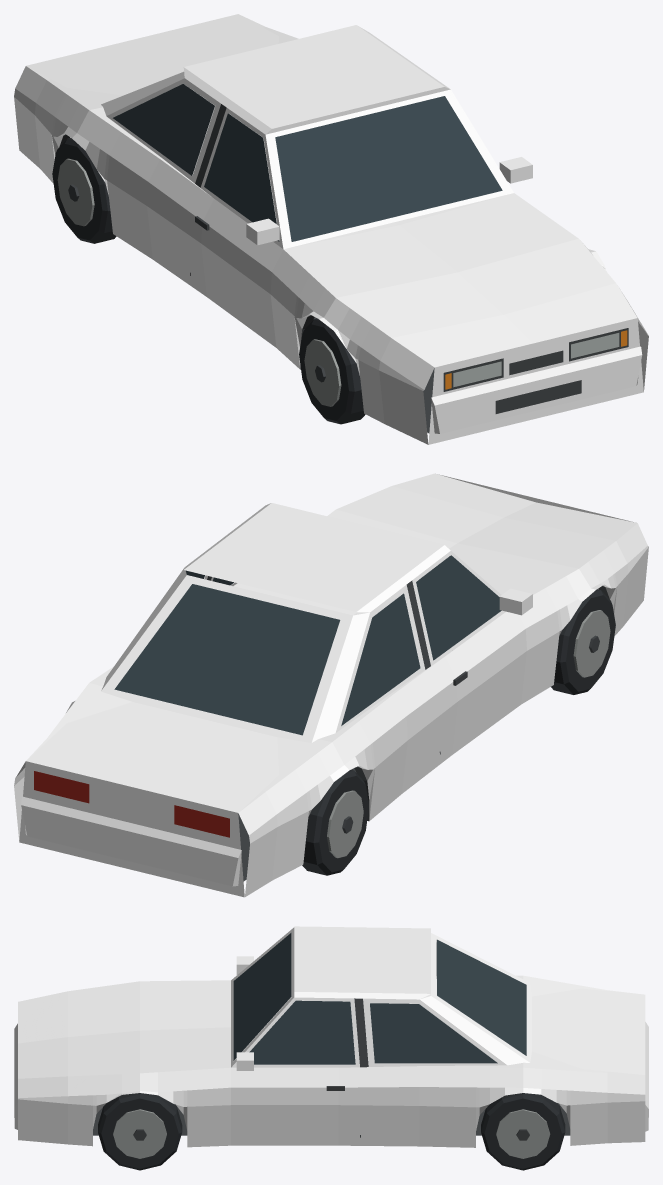
Rendered from hayase_akebono.glb.
3 views of the same model, one above another, from view 1: azimuth 30°, elevation 25°; view 2: azimuth 150°, elevation 25°; view 3: azimuth 270°, elevation 25° (orthographic). The views are drawn at different scales.
Parts seen in each view (by area): view 1: hayase_akebono; view 2: hayase_akebono; view 3: hayase_akebono.
Boxes of the visible parts, x1,y1,x2,y2 form: hayase_akebono: (14, 14, 648, 444); hayase_akebono: (14, 473, 648, 897); hayase_akebono: (14, 926, 648, 1170).
Bounding box in the file's own units: 1.74 × 1.25 × 4.44.
8 materials, 1 textured.
